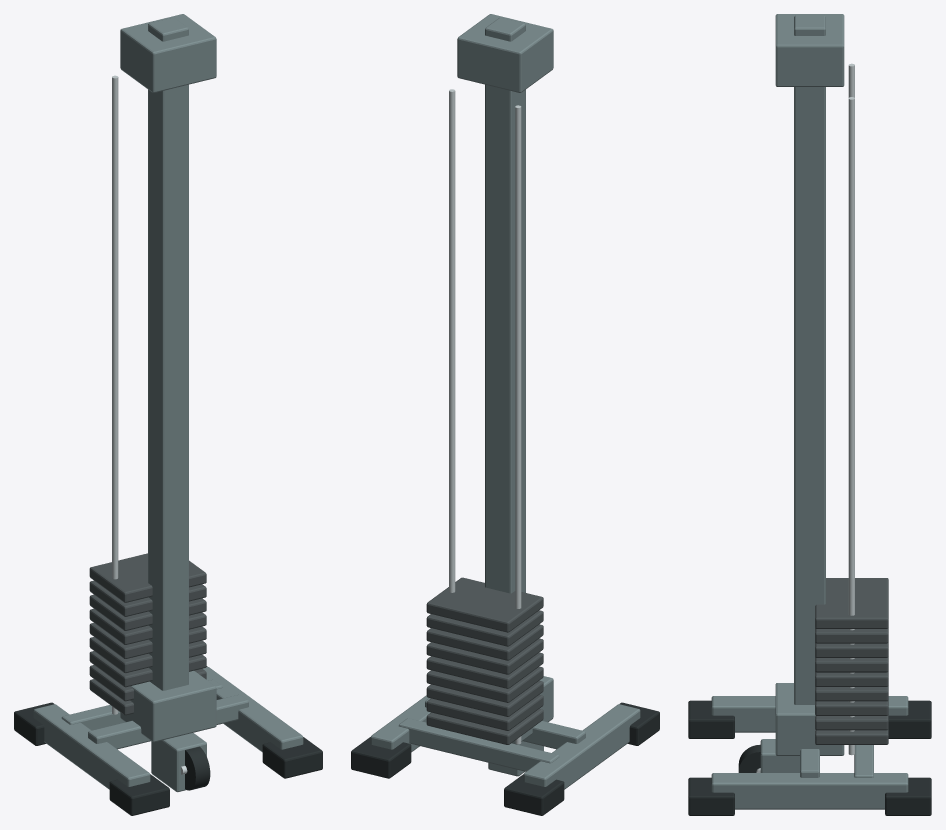
Rendered from cable-machine.v1.glb.
3 renders of one model, left to right at view 1: azimuth 30°, elevation 25°; view 2: azimuth 150°, elevation 25°; view 3: azimuth 270°, elevation 25°, orthographic. The views are drawn at different scales.
Parts seen in each view (by area): view 1: Base crossmember, Stack plate, Floor shoe, Stack guide, Pulley carriage, Adjustable pulley; view 2: Base crossmember, Stack plate, Stack guide, Floor shoe; view 3: Base crossmember, Stack plate, Floor shoe, Stack guide, Pulley carriage, Adjustable pulley.
Boxes of the visible parts, box(x1,y1,x2,y2) form: Base crossmember: box(33, 14, 303, 789); Stack plate: box(89, 553, 206, 715); Floor shoe: box(14, 666, 322, 815); Stack guide: box(112, 75, 118, 714); Pulley carriage: box(151, 733, 206, 792); Adjustable pulley: box(185, 746, 210, 790); Base crossmember: box(370, 14, 640, 789); Stack plate: box(426, 577, 543, 744); Stack guide: box(449, 89, 521, 744); Floor shoe: box(351, 702, 659, 815); Base crossmember: box(711, 14, 908, 809); Stack plate: box(815, 578, 888, 744); Floor shoe: box(688, 700, 931, 815); Stack guide: box(848, 63, 854, 755); Pulley carriage: box(760, 739, 799, 772); Adjustable pulley: box(738, 744, 760, 772).
Bounding box in the file's own units: 0.93 × 3.45 × 0.99.
